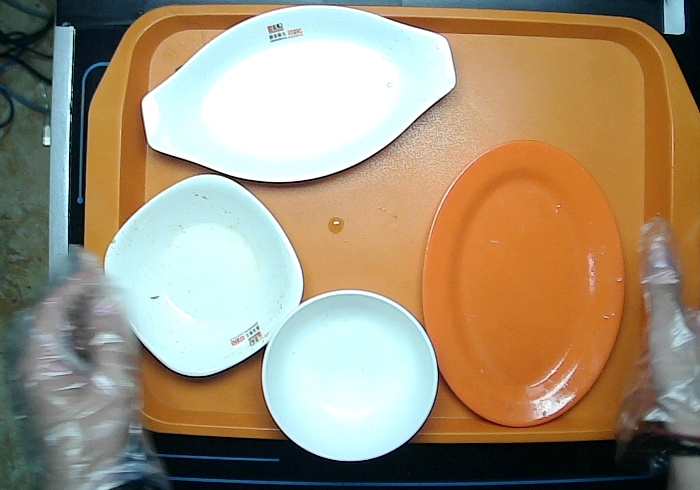NLDX-Bai_Se_Xiao_Fang_Die: (101, 171, 306, 380)
NLDX-Fan_Wan: (257, 286, 440, 464)
NLDX-Ju_Se_Pan: (419, 138, 628, 430)
NLDX-Yu_Pan: (138, 2, 458, 184)
